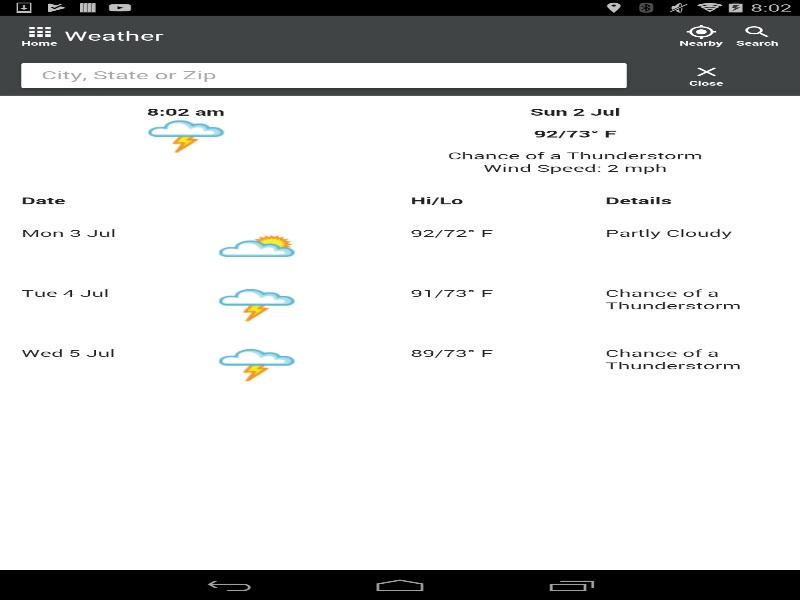Button: (626, 63, 778, 87), (678, 23, 724, 47), (21, 23, 65, 47), (736, 23, 778, 47)
Input: (21, 63, 628, 88)
